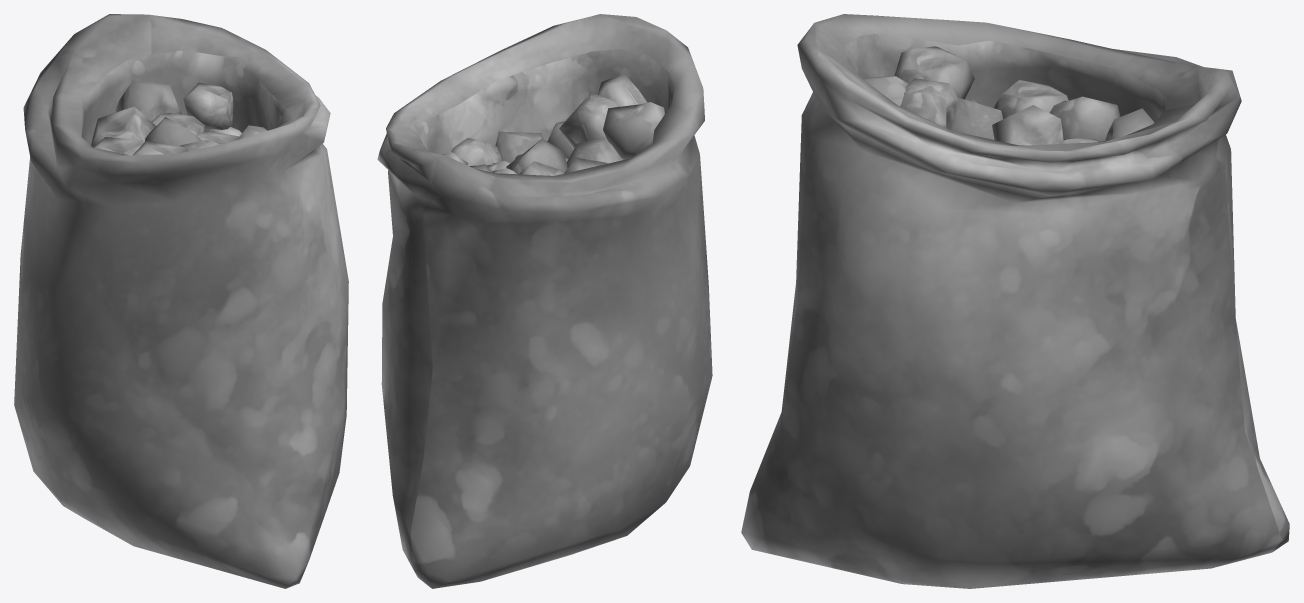
3 renders of one model, left to right at view 1: azimuth 30°, elevation 25°; view 2: azimuth 150°, elevation 25°; view 3: azimuth 270°, elevation 25°, orthographic. The views are drawn at different scales.
Parts seen in each view (by area): view 1: SM_Sack_Apple_01c_LOD0; view 2: SM_Sack_Apple_01c_LOD0; view 3: SM_Sack_Apple_01c_LOD0.
Boxes of the visible parts, left/top/right/bottom form: SM_Sack_Apple_01c_LOD0: left=14, top=14, right=348, bottom=588; SM_Sack_Apple_01c_LOD0: left=377, top=14, right=712, bottom=588; SM_Sack_Apple_01c_LOD0: left=741, top=14, right=1289, bottom=588.
Size of the model in its own units: 66.33 by 94.51 by 97.29.
